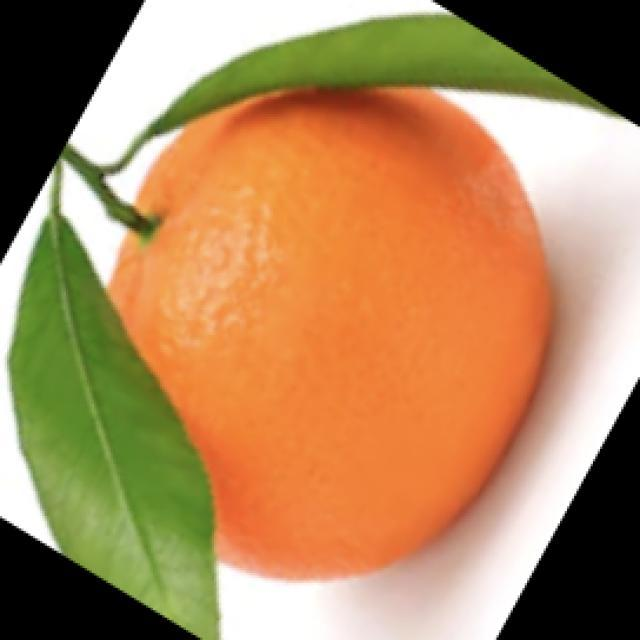Orange: (106, 83, 555, 582)
